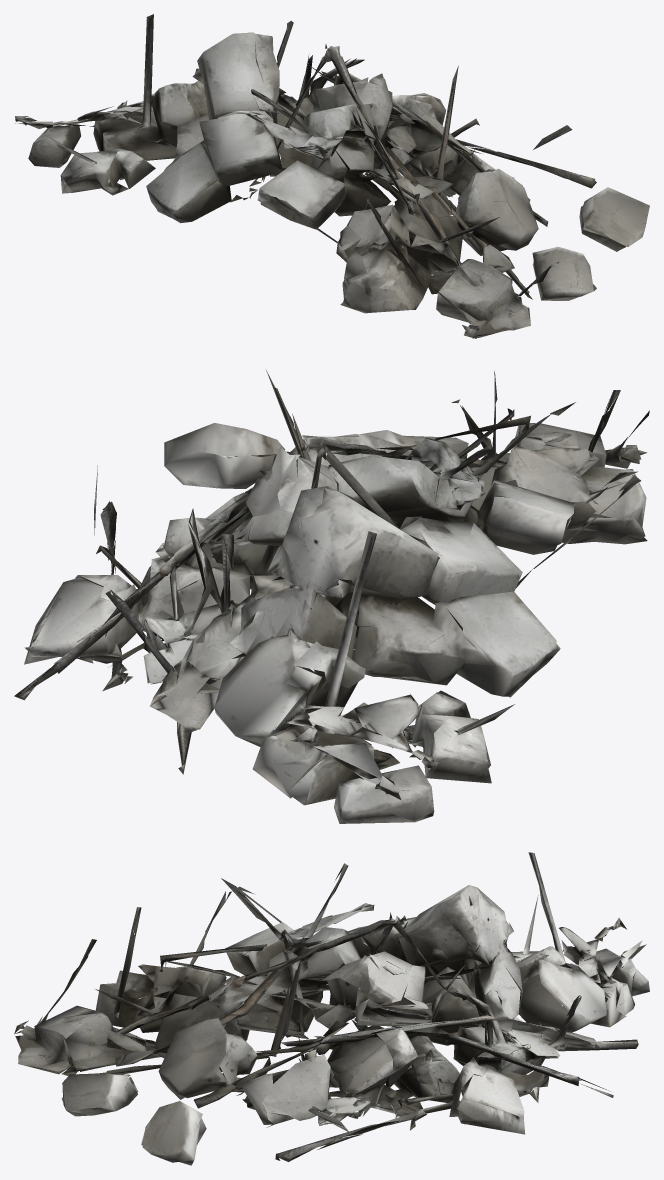
Rendered from debris_pile_LOD1.fbx.
The picture shows the model from 3 angles, top to bottom: view 1: azimuth 30°, elevation 25°; view 2: azimuth 150°, elevation 25°; view 3: azimuth 270°, elevation 25°; orthographic projection. The views are drawn at different scales.
Visible parts, largest first — view 1: debris_pile.001; view 2: debris_pile.001; view 3: debris_pile.001.
Part boxes in pixels (x1=…): debris_pile.001: x1=15, y1=14, x2=649, y2=338; debris_pile.001: x1=14, y1=370, x2=649, y2=823; debris_pile.001: x1=14, y1=852, x2=649, y2=1165.
Bounding box in the file's own units: 2.34 × 0.8643 × 3.
1 material, 1 textured.
